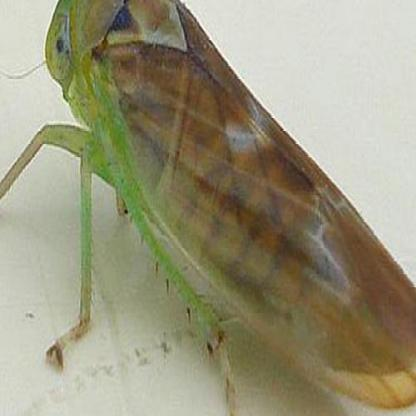green-leafhopper: (0, 0, 416, 414)
